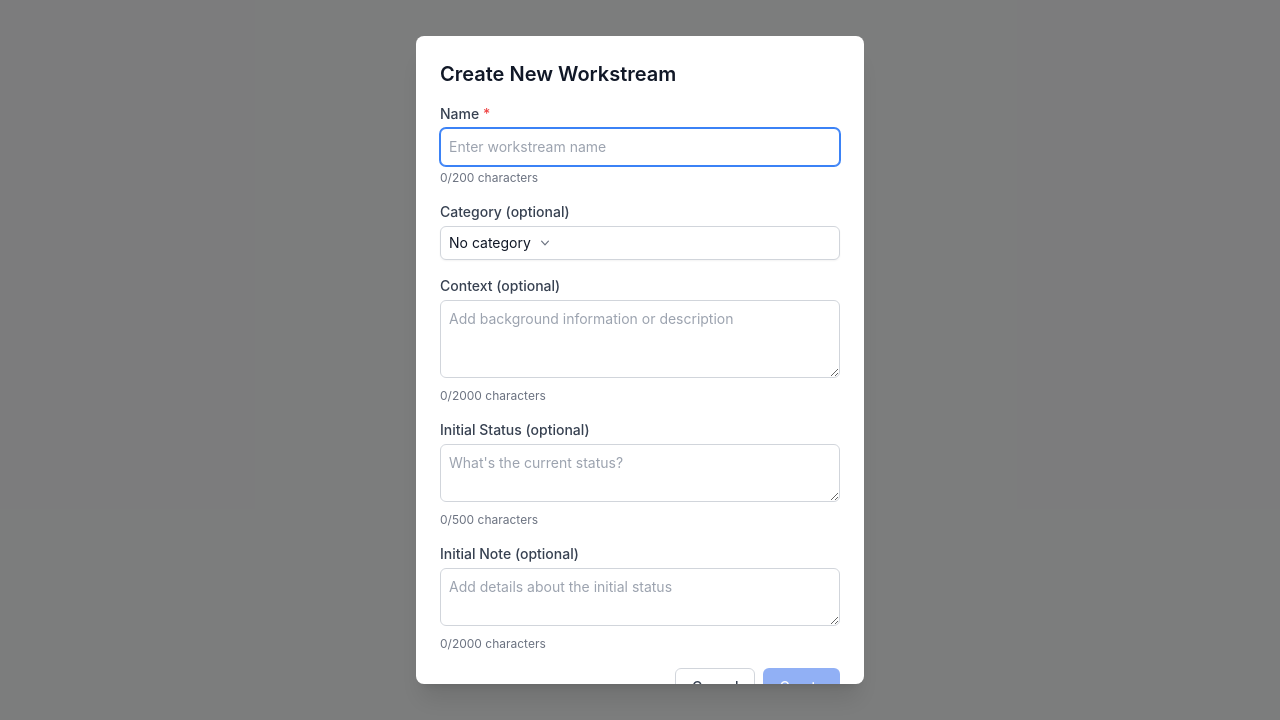
Scenario: dialog keyboard submission hints › uses the same Escape discard confirmation for creating streams
In the field labelled "Name *": {"x": 640, "y": 147} 440,128 -> 840,166, type "Draft stream"
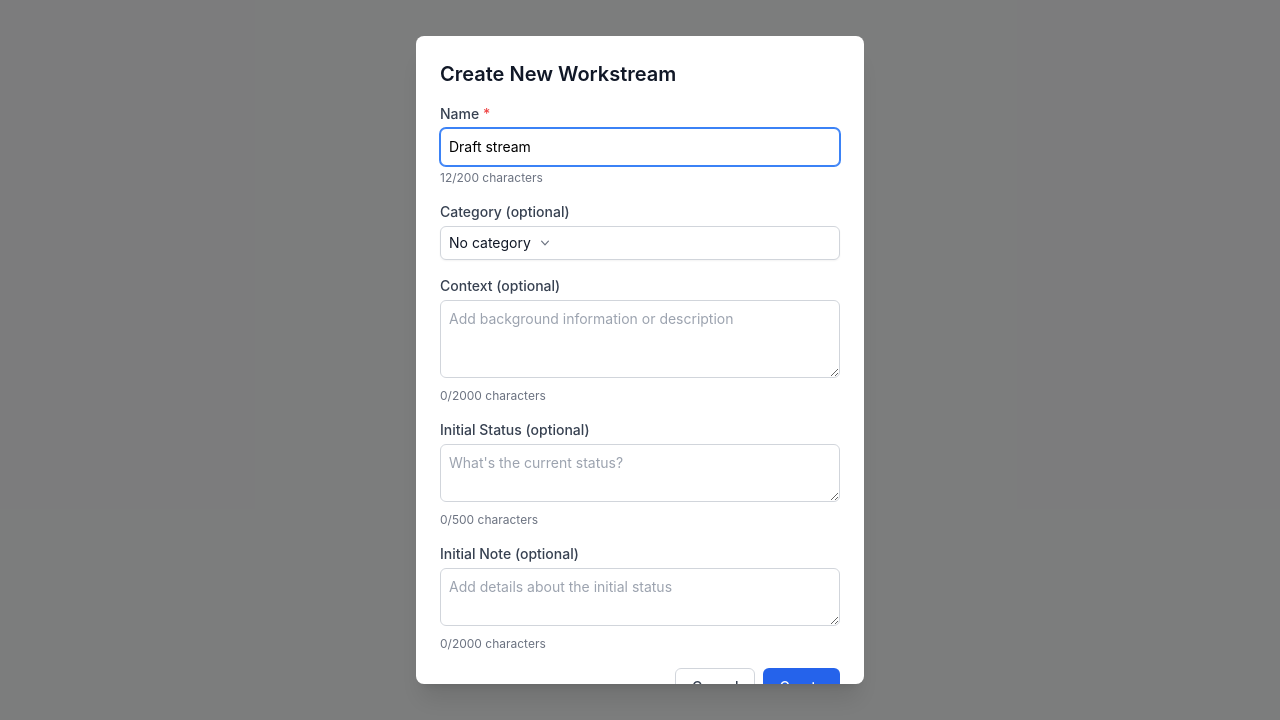
Press Escape in the field labelled "Name *", box 440,128 -> 840,166
(page scrolled)
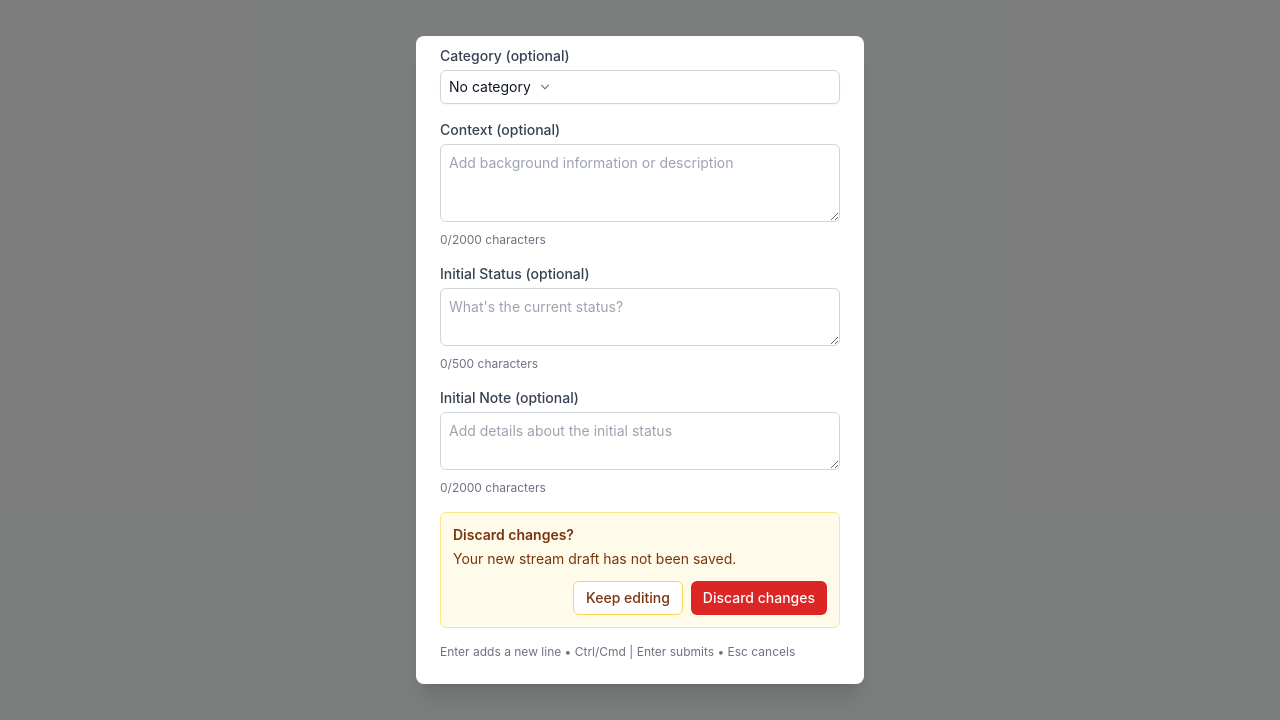
Now the text "Discard changes?" is shown, box 453,526 -> 574,543
Now the button "Create" is gone
Click the button "Keep editing": {"x": 628, "y": 598} 573,581 -> 683,615
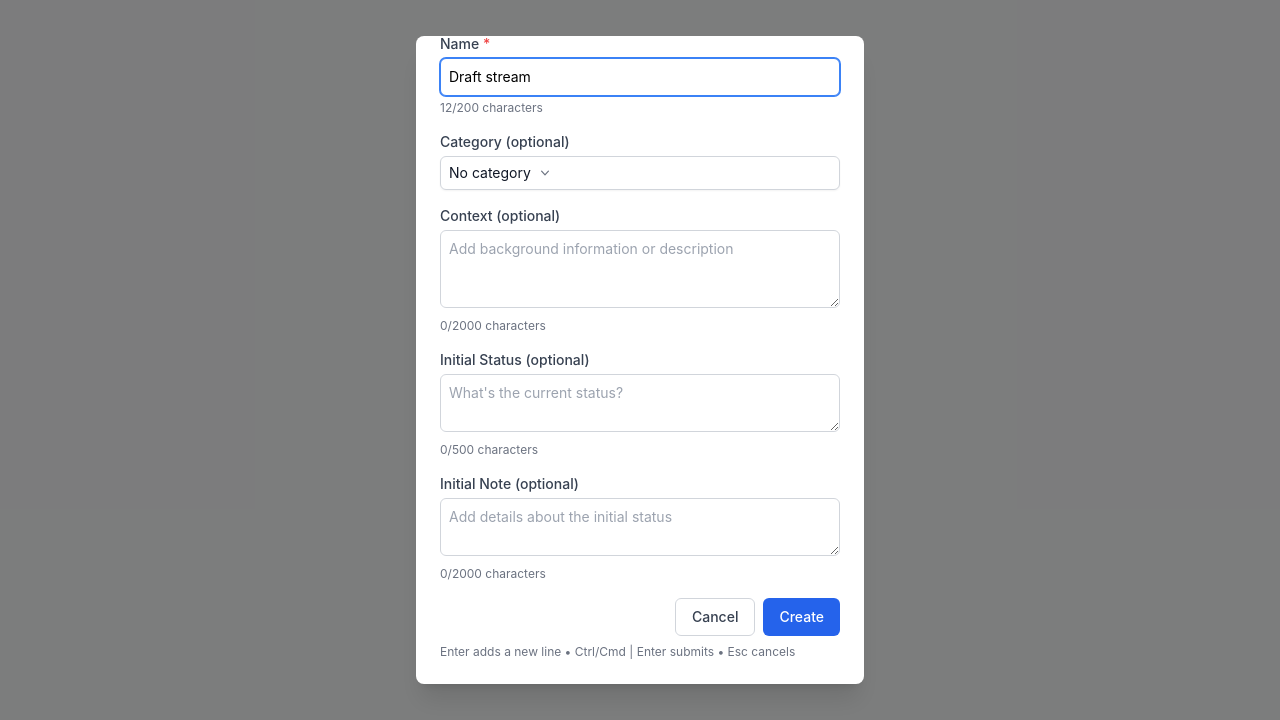
Now the text "Discard changes?" is gone
Now the button "Cancel" is shown, box 675,598 -> 755,636
Now the button "Create" is shown, box 763,598 -> 840,636
